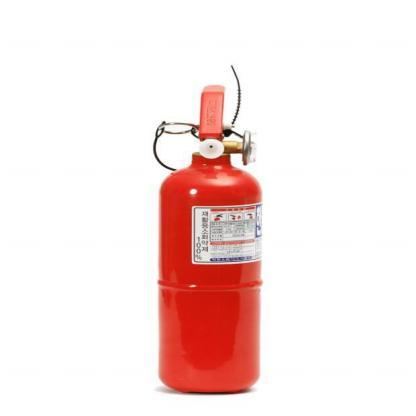Fire Extinguisher: (136, 71, 311, 407)
